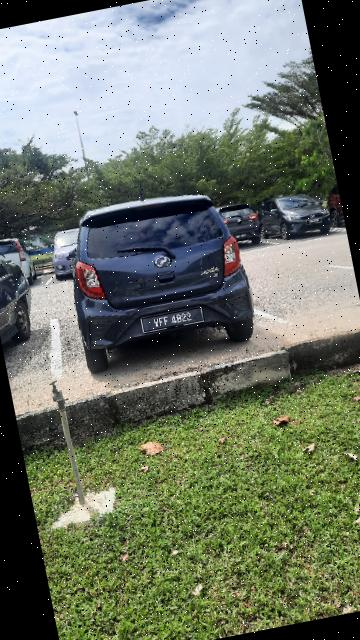License_Plate: (139, 305, 209, 338)
car: (53, 179, 263, 374)
